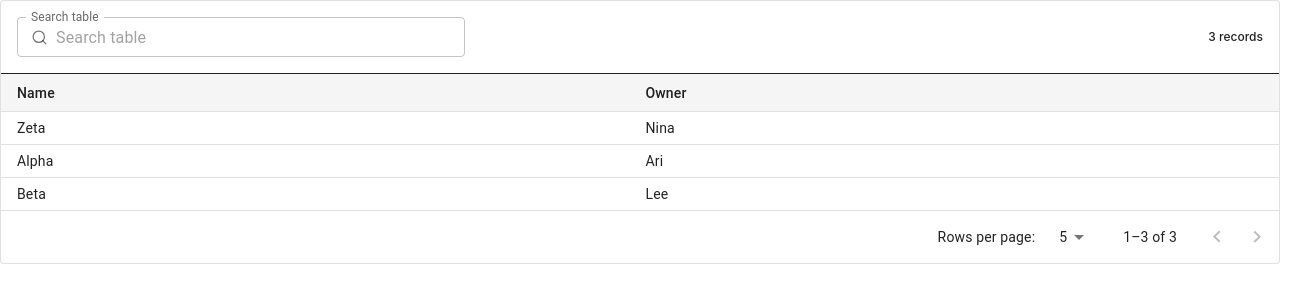
DataTable › filters rows with the global search field
Step 1. Type "alpha" into the field labelled "Search table" → coordinates (260, 37), box top-left (56, 17), bottom-right (465, 57)
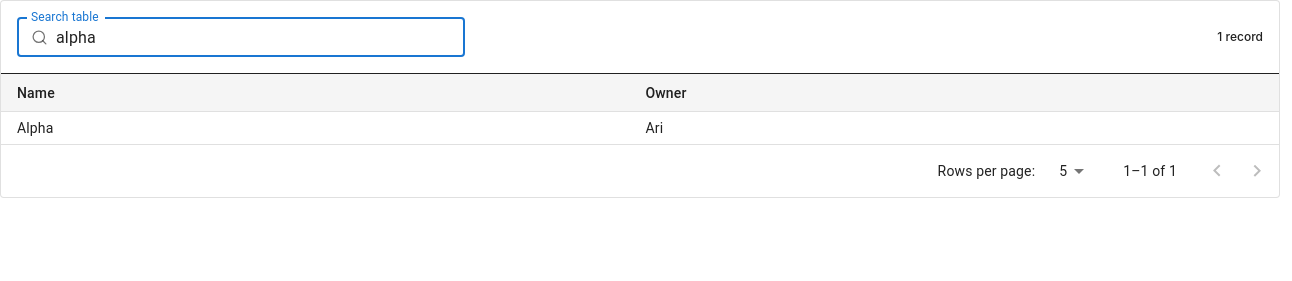
Expected: the text "Alpha" is shown, top-left (1, 112), bottom-right (630, 145)
Expected: the text "Zeta" is gone
